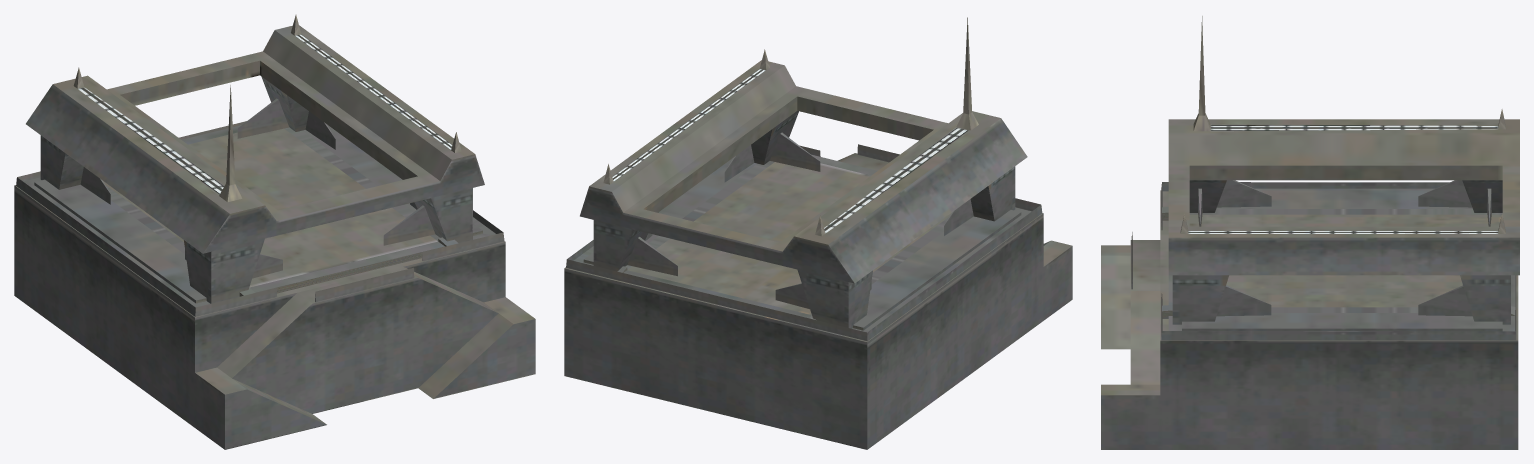
Rendered from ply_corl_shuttleport_s01_l2.fbx.
3 renders of one model, left to right at view 1: azimuth 30°, elevation 25°; view 2: azimuth 150°, elevation 25°; view 3: azimuth 270°, elevation 25°, orthographic. The views are drawn at different scales.
Parts seen in each view (by area): view 1: mesh_node; view 2: mesh_node; view 3: mesh_node.
Boxes of the visible parts, x1,y1,x2,y2 form: mesh_node: [14, 14, 535, 449]; mesh_node: [564, 17, 1072, 449]; mesh_node: [1101, 16, 1519, 449].
Bounding box in the file's own units: 31.92 × 31.06 × 37.63.
Materials: 1 (1 with a texture image).
